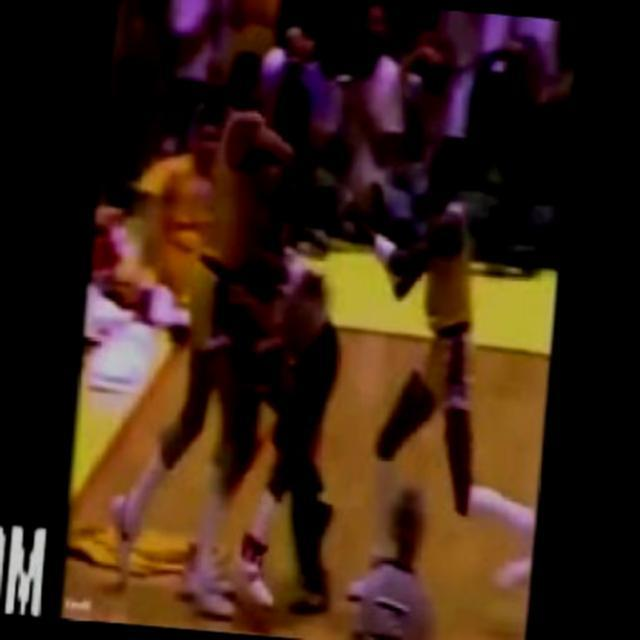fight: (156, 46, 378, 625)
